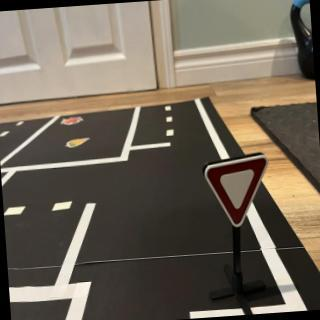sign_yield: (203, 153, 274, 230)
